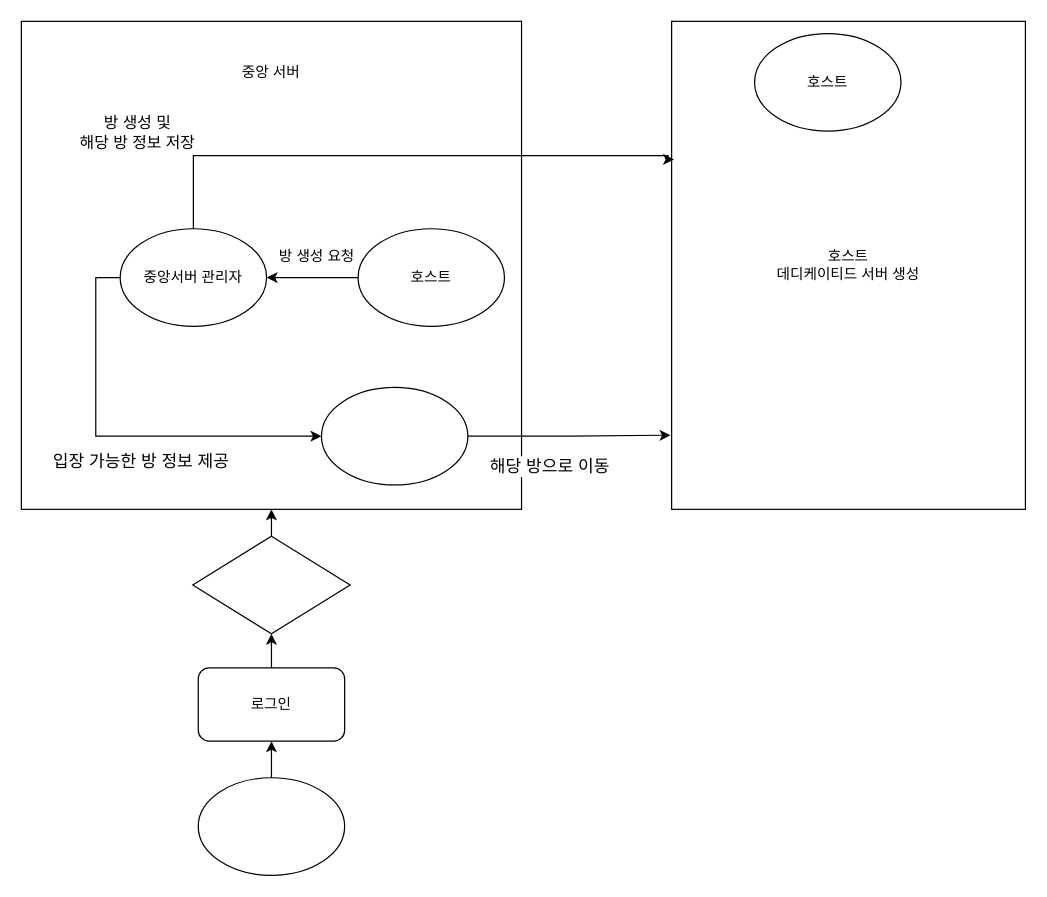
This 1047x897 diagram has some shape labels left out. The shapes that lost their labels are listed below. From the top down, each one's centre as x and y in pixels, then its label:
At point 394,435: "클라이언트 (호스트 생성 대기)".
At point 271,584: "호스트 or 클라이언트 선택".
At point 271,826: "유저".
